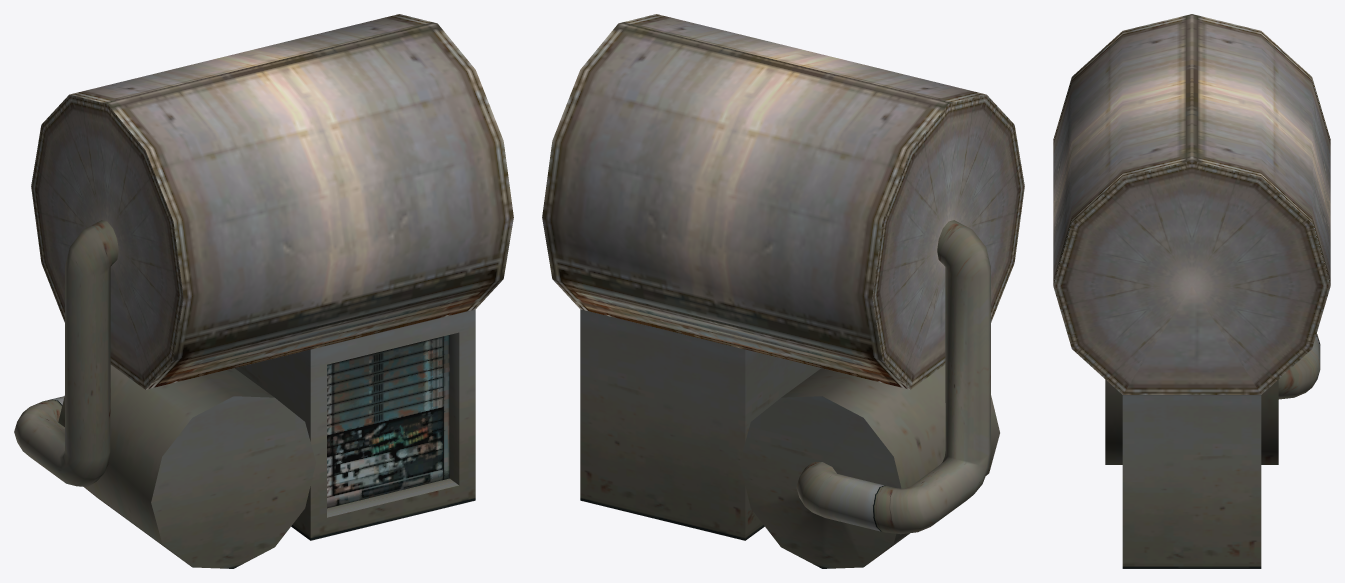
File: M11_LABKIT02.glb
3 views of the same model, side by side, from view 1: azimuth 30°, elevation 25°; view 2: azimuth 150°, elevation 25°; view 3: azimuth 270°, elevation 25° (orthographic). The views are drawn at different scales.
Visible parts, largest first — view 1: M11_LABKIT02; view 2: M11_LABKIT02; view 3: M11_LABKIT02.
Boxes of the visible parts, box(x1,y1,x2,y2) form: M11_LABKIT02: box(14, 14, 513, 568); M11_LABKIT02: box(542, 14, 1024, 568); M11_LABKIT02: box(1053, 14, 1330, 568).
Bounding box in the file's own units: 2.24 × 2.6 × 1.6.
Materials: 3 (3 with a texture image).
